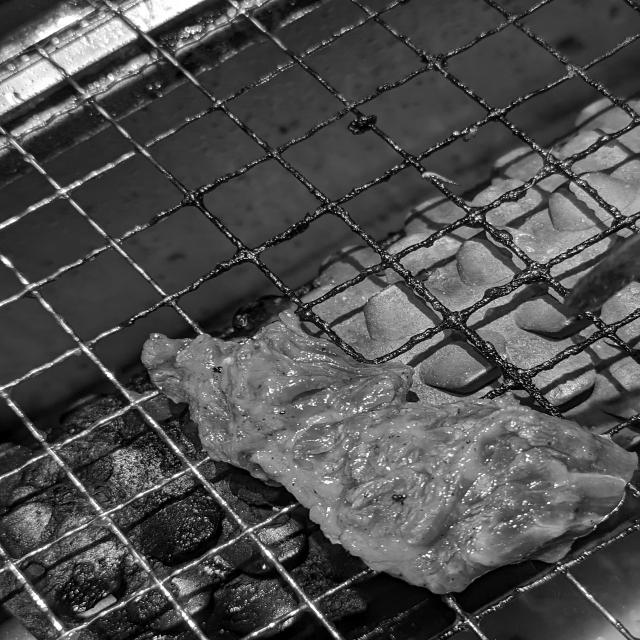NG undercooked beef,: (129, 298, 640, 608)
